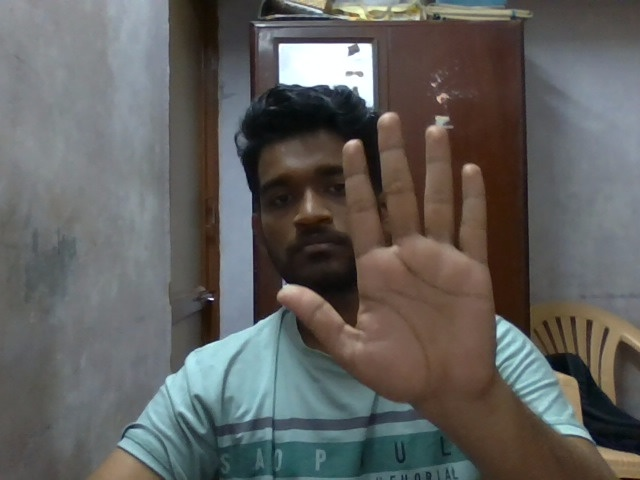Hello: (275, 106, 513, 422)
